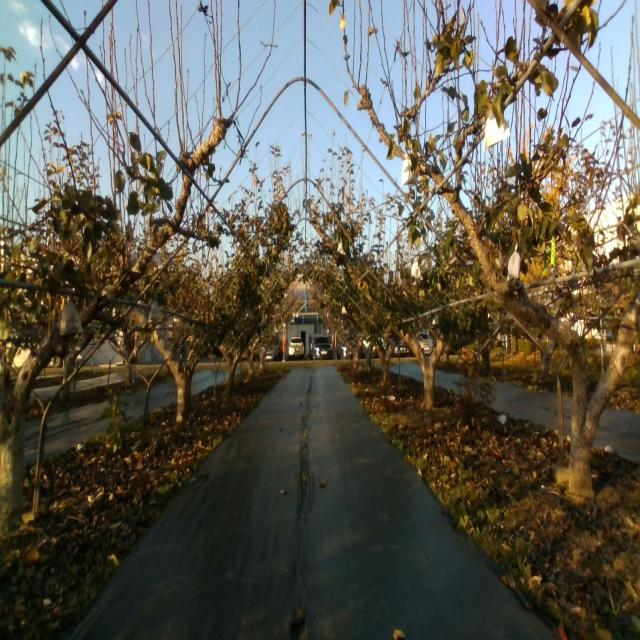pearbags: (484, 112, 510, 150), (59, 302, 83, 336), (506, 245, 520, 282), (402, 153, 414, 186), (148, 300, 161, 323), (411, 256, 422, 280)
